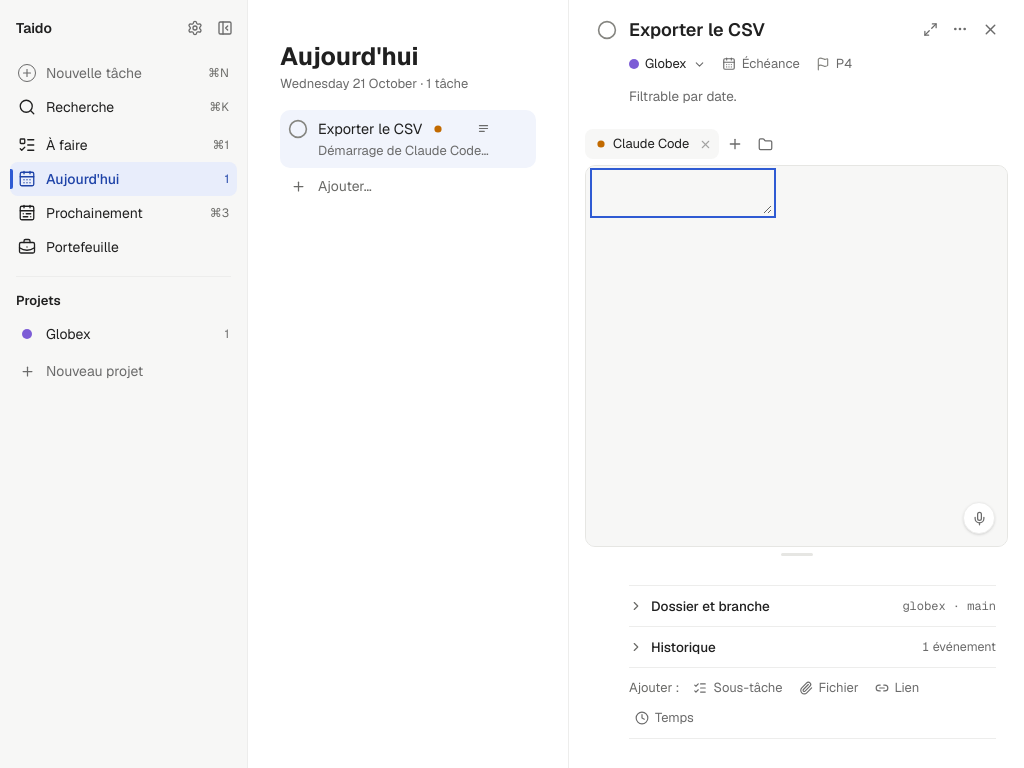
Test: dictation › a refused microphone says where to allow it
Expected: the text box named "Titre de la tâche" is shown, [623,16,910,44]
Click the button named "Dicter".
click(979, 518)  # box [963,502,995,534]
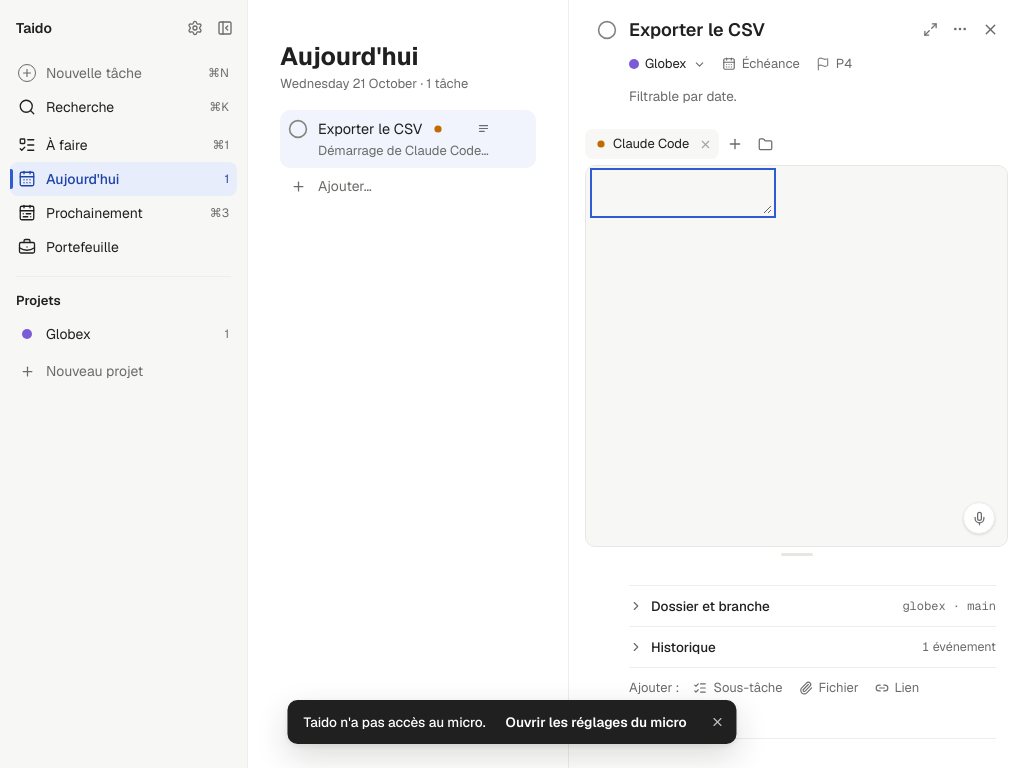
Expected: the text "Taido n'a pas accès au micro." is shown, [304,712,486,732]
Expected: the button "Ouvrir les réglages du micro" is shown, [498,708,694,736]
